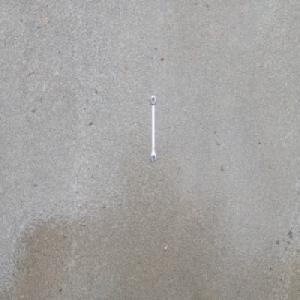Wrench: (149, 93, 157, 163)
